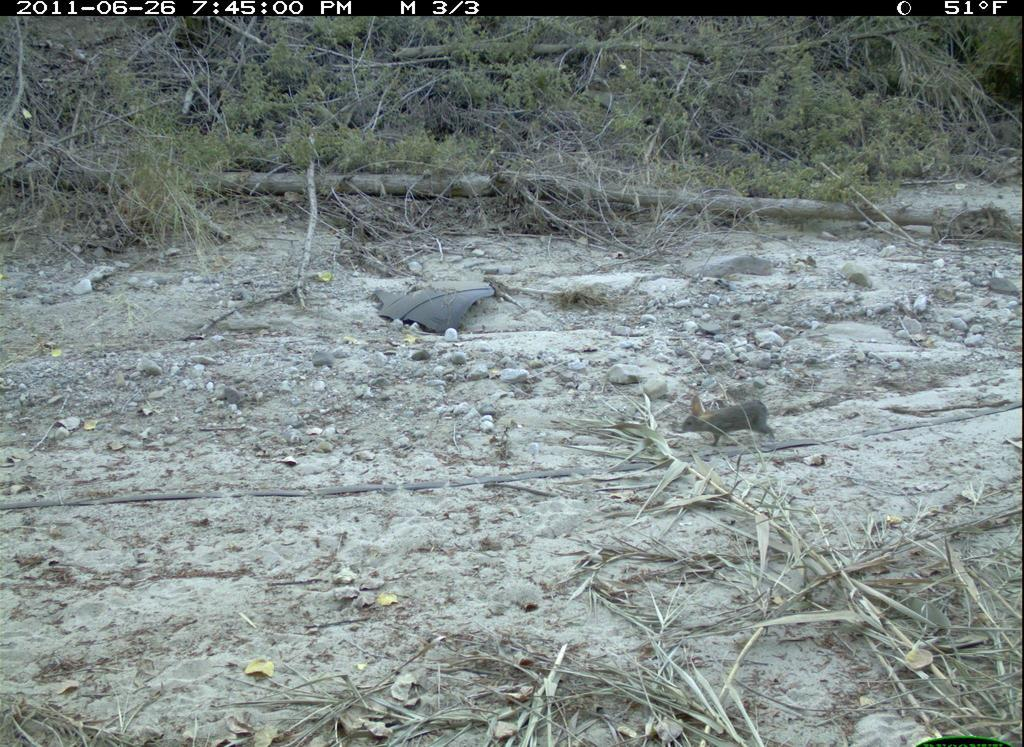rabbit: (671, 390, 793, 454)
